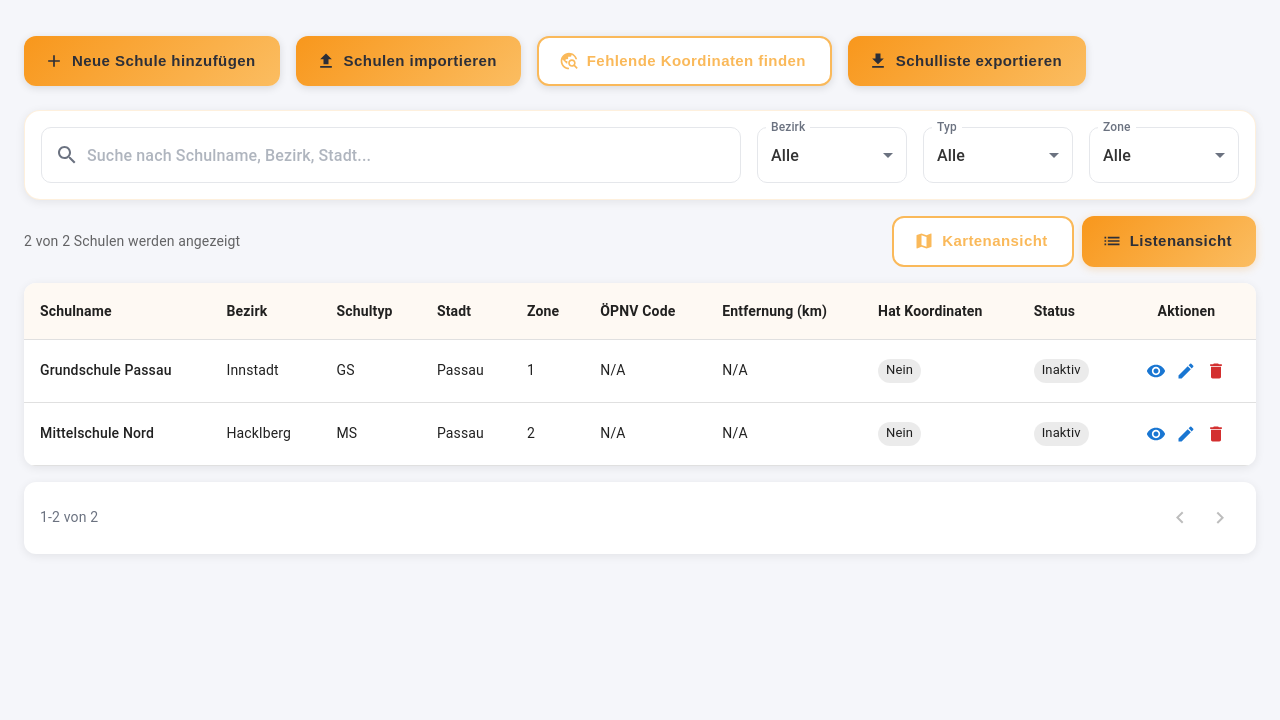
Test: SchoolManagement Page Integration › 2. Opens "Add School" dialog and submits form
This screenshot has width=1280, height=720.
Step 1. Click the button "Neue Schule hinzufügen" → (152, 61), box left=24, top=36, right=280, bottom=86
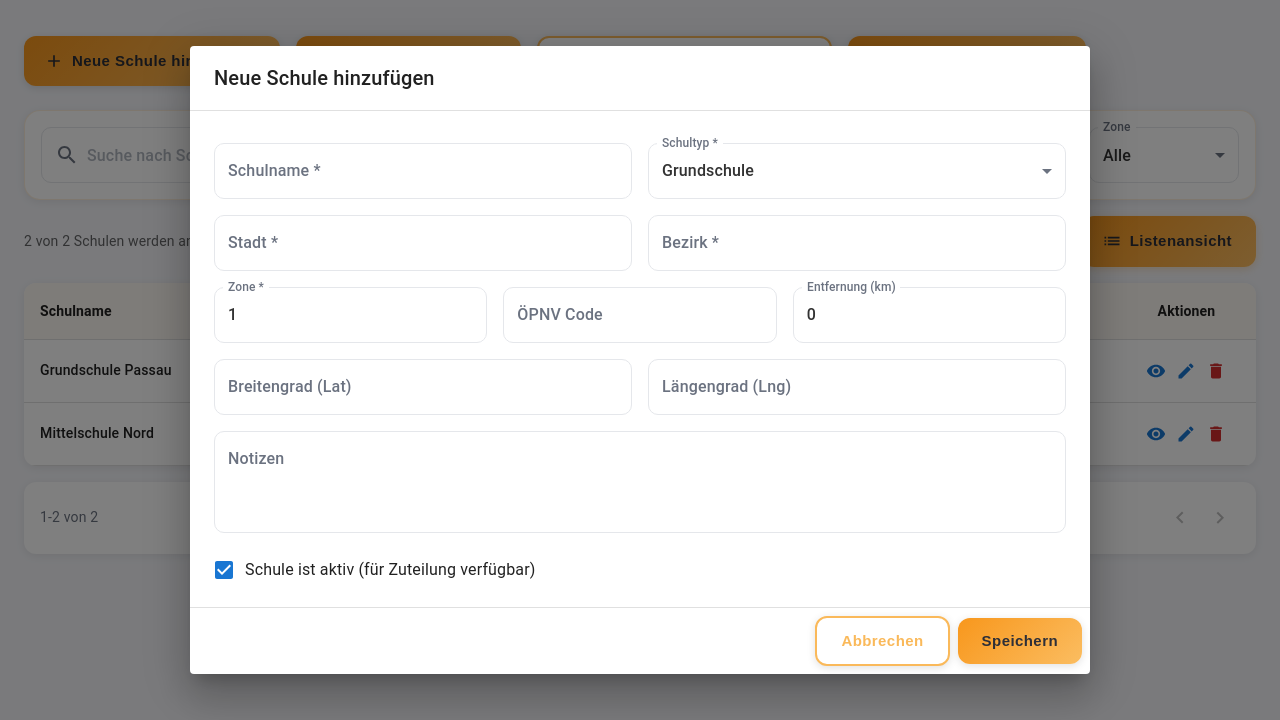
Note: Fill Form
Step 2. Type "Test Schule" into the field labelled "Schulname *" → (423, 171), box left=214, top=143, right=632, bottom=199
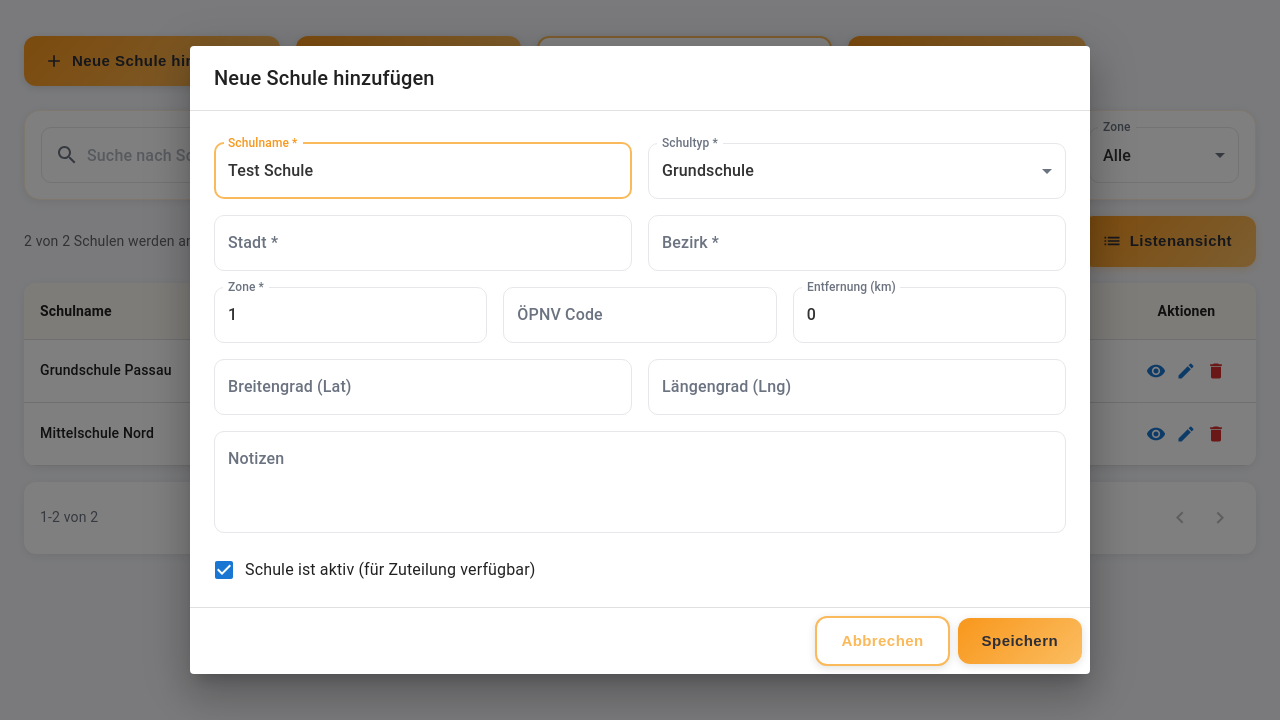
Step 3. Type "Test City" into the field labelled "Stadt *" → (423, 243), box left=214, top=215, right=632, bottom=271
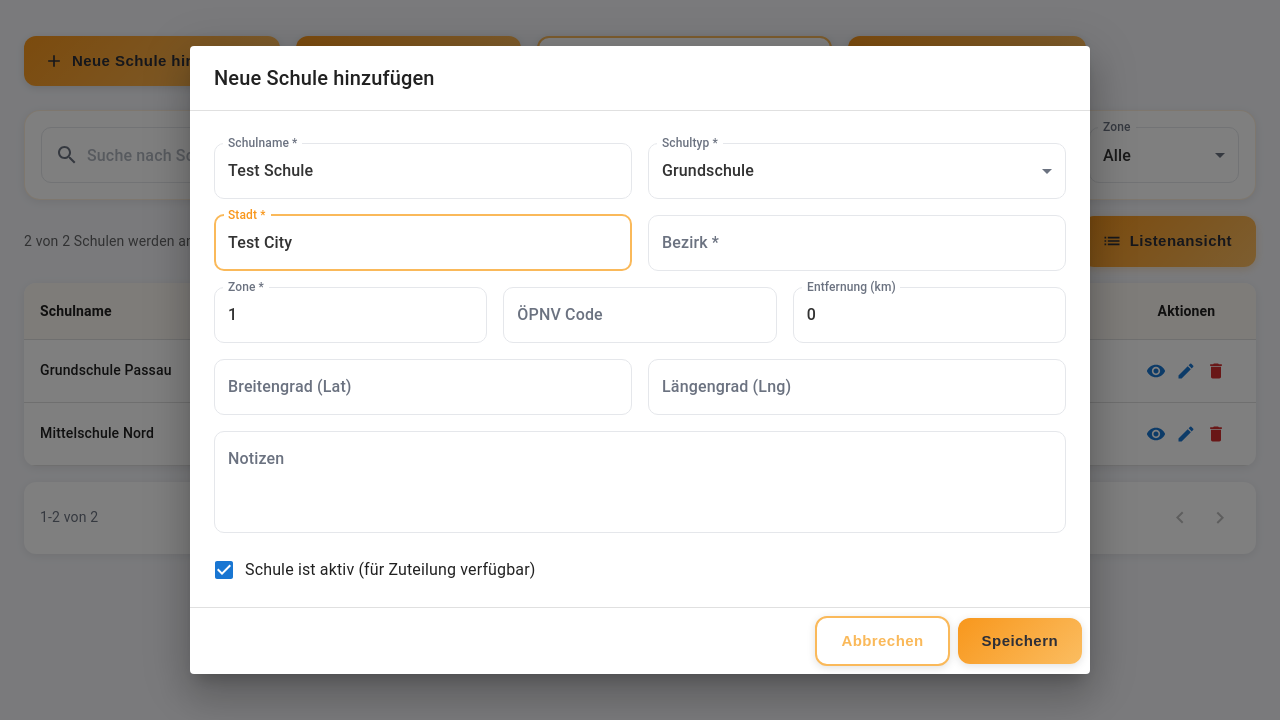
Step 4. Type "Test District" into the field labelled "Bezirk *" → (857, 243), box left=648, top=215, right=1066, bottom=271
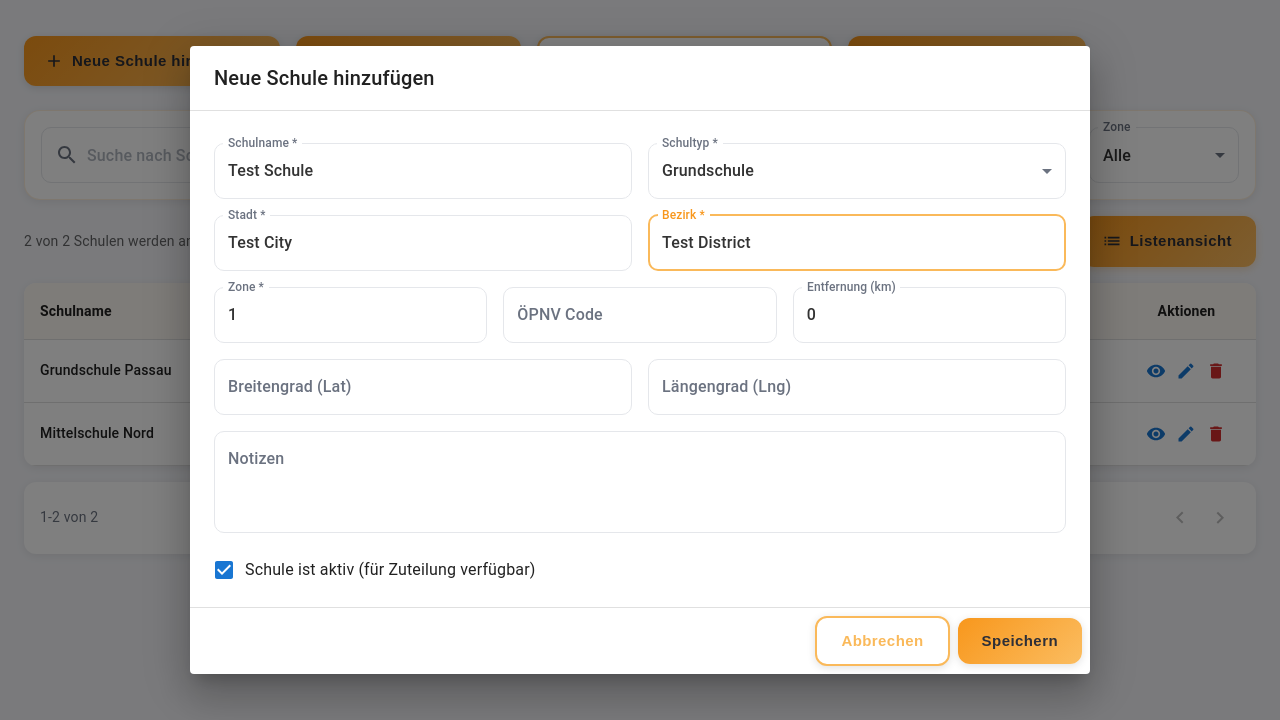
Note: Click Save
Step 5. Click the button "Speichern" → (1020, 641), box left=958, top=618, right=1082, bottom=664
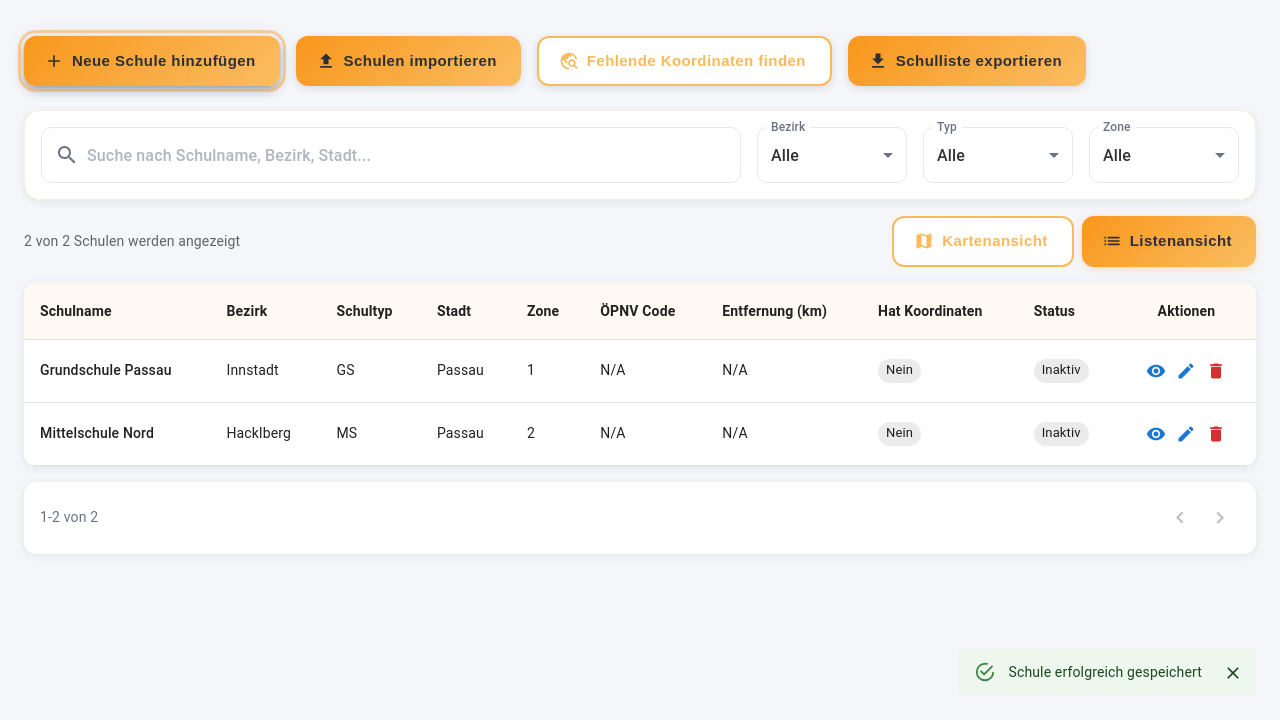
Expected: the text "Schule erfolgreich gespeichert" is shown, left=1008, top=664, right=1202, bottom=680
